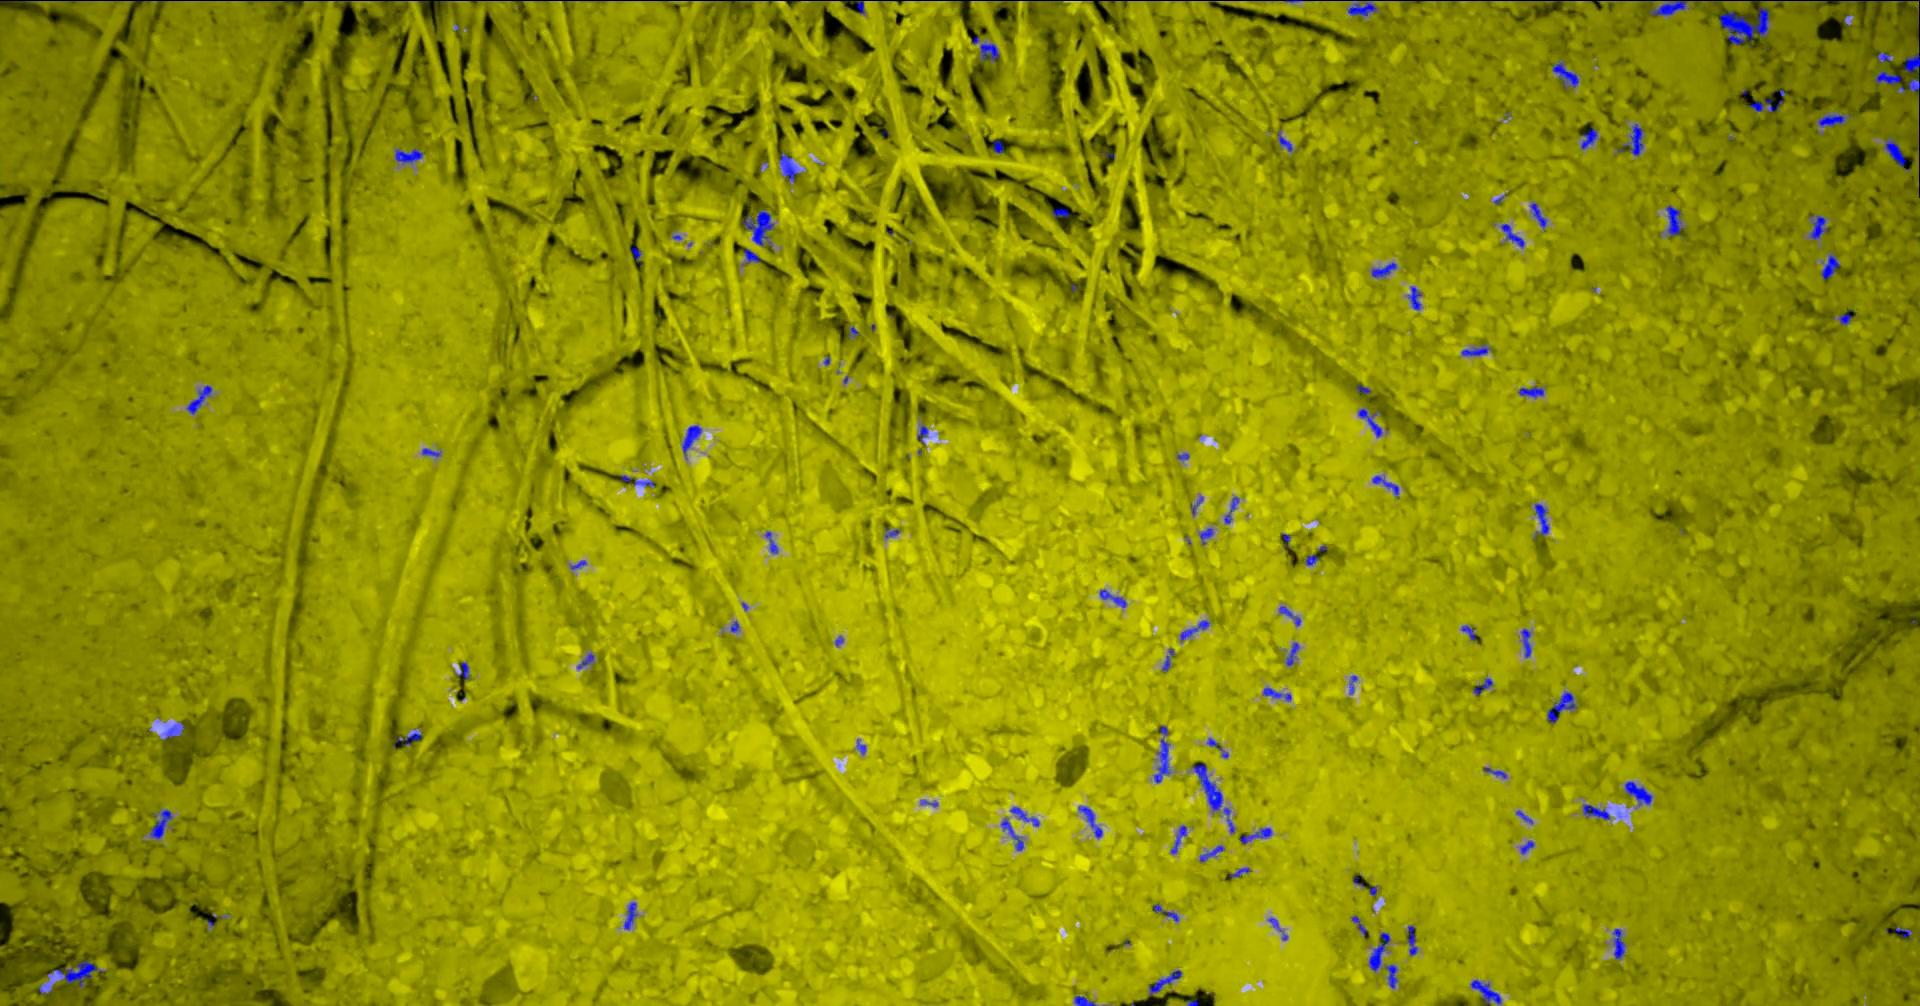ant: (1192, 763, 1234, 833), (1718, 8, 1769, 44), (52, 959, 105, 987), (1874, 70, 1919, 97), (742, 210, 773, 246), (1153, 725, 1170, 782), (1545, 691, 1575, 721), (1617, 123, 1643, 155), (1749, 89, 1785, 112), (1077, 805, 1102, 838), (1148, 969, 1181, 995), (1368, 932, 1389, 970), (185, 384, 211, 414), (1470, 979, 1501, 1005), (1650, 0, 1699, 15), (1001, 818, 1023, 850), (1357, 408, 1382, 437), (1550, 62, 1578, 86), (681, 426, 701, 459), (149, 809, 171, 838), (1884, 136, 1906, 166), (1624, 781, 1652, 804), (1178, 619, 1209, 639), (778, 152, 799, 182), (1533, 503, 1549, 539), (1371, 475, 1398, 497), (1010, 807, 1039, 826), (1500, 224, 1524, 246), (1238, 827, 1271, 843), (1820, 253, 1839, 279), (1665, 205, 1681, 235), (1098, 589, 1126, 607), (1808, 215, 1829, 239), (1152, 903, 1178, 921), (1346, 0, 1377, 15), (1170, 826, 1186, 854), (618, 474, 654, 486), (1529, 202, 1545, 229), (1582, 803, 1609, 819), (1277, 606, 1300, 625), (1223, 495, 1238, 523), (1611, 929, 1625, 959), (979, 41, 999, 61), (163, 721, 184, 741), (1206, 738, 1228, 757), (1199, 845, 1223, 861), (1817, 113, 1845, 127), (394, 149, 422, 163), (623, 901, 637, 929), (395, 732, 422, 746), (1460, 343, 1490, 356), (1371, 262, 1396, 277), (1580, 128, 1597, 149), (1351, 915, 1369, 935), (1406, 925, 1417, 955), (1263, 687, 1290, 700), (1407, 286, 1421, 310), (1520, 627, 1531, 657), (1473, 678, 1492, 695), (1903, 52, 1919, 72), (1285, 641, 1298, 666), (1384, 964, 1397, 988), (841, 0, 863, 13), (1517, 386, 1543, 398), (1277, 131, 1291, 151), (764, 531, 777, 553), (577, 652, 593, 668), (455, 661, 469, 680), (1162, 648, 1173, 671), (743, 246, 759, 262), (1483, 767, 1505, 779), (629, 245, 641, 263), (1073, 995, 1095, 1005), (917, 424, 928, 443), (1199, 528, 1213, 544), (1462, 625, 1476, 640), (1051, 206, 1069, 217), (1520, 840, 1534, 854), (1839, 309, 1851, 324), (1876, 51, 1892, 62), (1895, 926, 1911, 937), (990, 138, 1003, 152), (1304, 554, 1318, 565), (884, 527, 899, 537), (1836, 0, 1890, 1)
